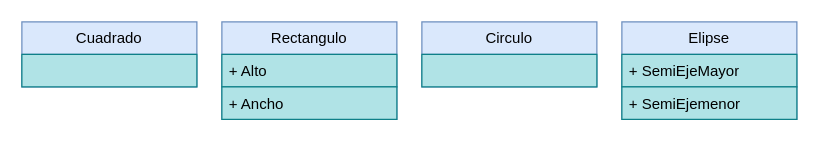
This 819x145 diagram has some shape labels left out. The shapes that lost their labels are listed below. From the top down, each one's centre as x and y in pixels, then its label:
At [109,70]: "+ LongitudLado".
At [509,70]: "+ Radio".
